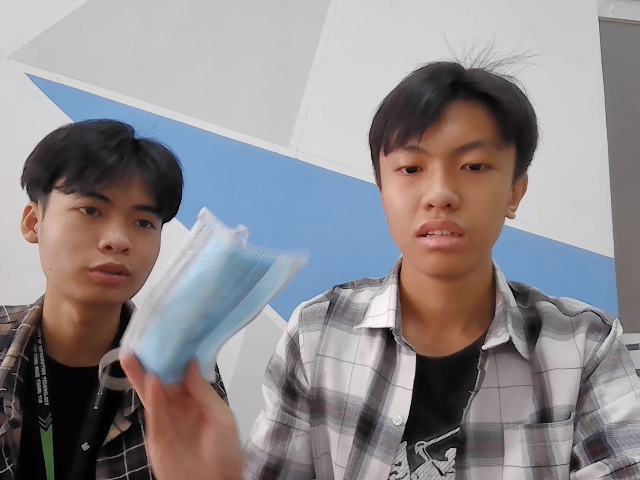human: (364, 57, 545, 278), (20, 120, 180, 317)
mask: (122, 222, 296, 398)
